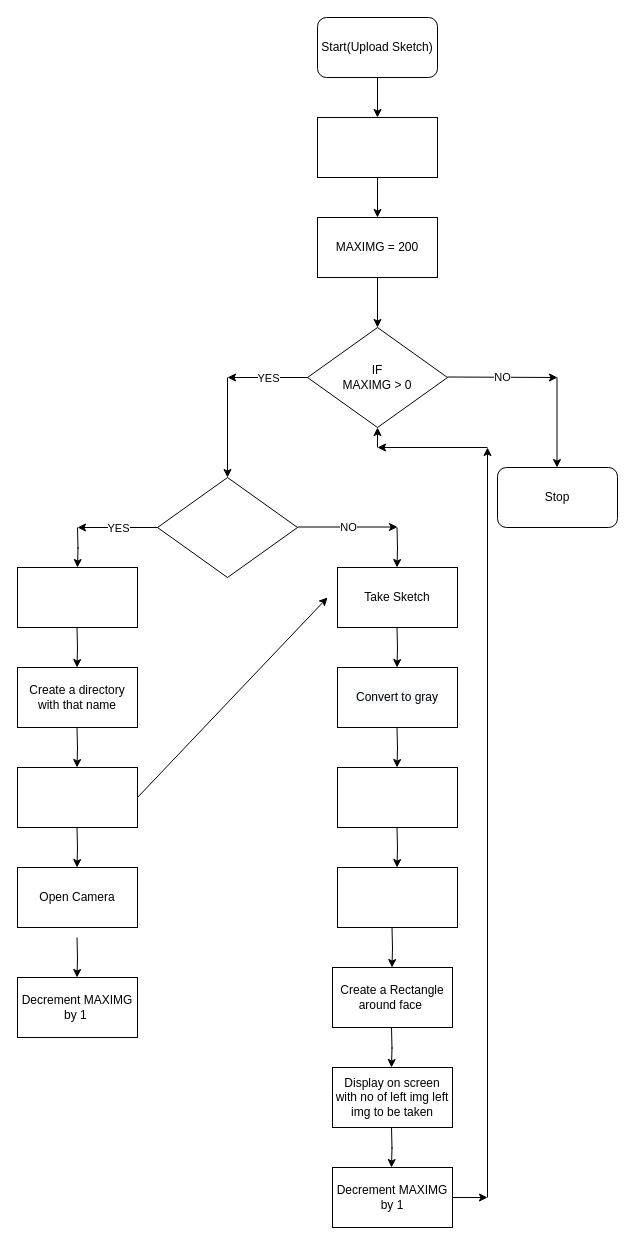
Some shapes in this 635 by 1245 pixel diagram are drawn without their labels. The shapes that lost their labels are listed below. From the top down, each one's centre as x and y in pixels, then its label:
point 377,147: Move to director where to store sketch
point 227,527: IF MAXIMG == 200
point 77,597: Enter tag(name)
point 77,797: Move to that directory
point 397,797: Detect face in photo
point 397,897: Crop and save face
